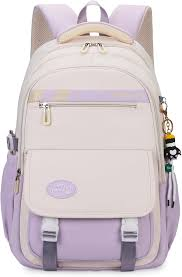bag: (18, 13, 179, 274)
